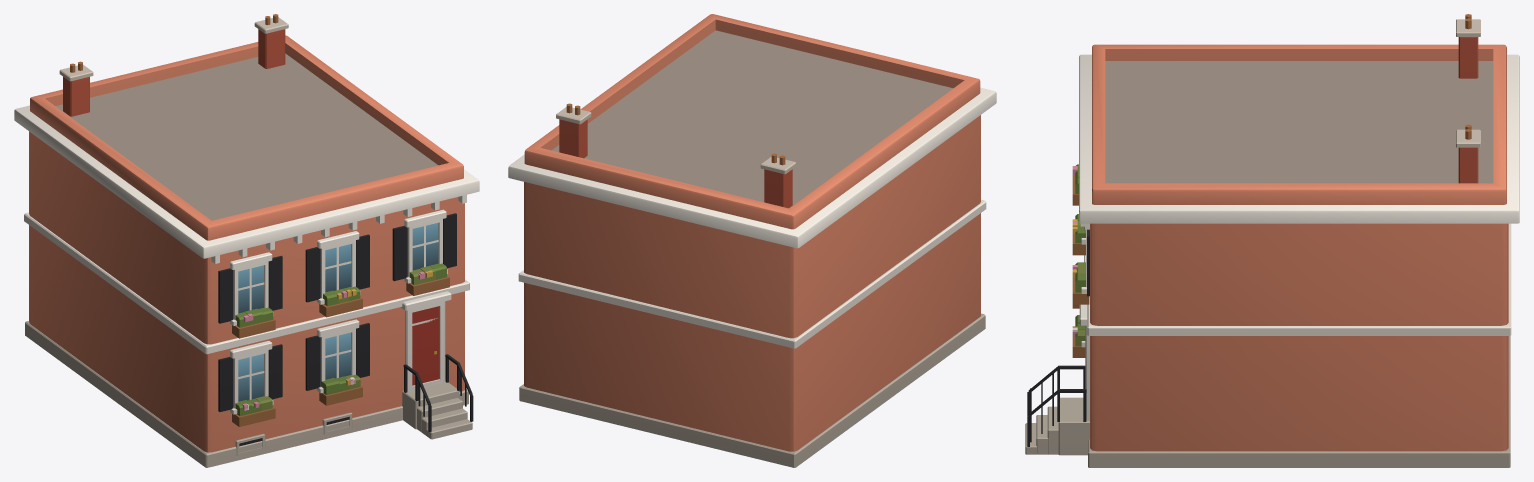
File: beacon_n10.glb
3 renders of one model, left to right at view 1: azimuth 30°, elevation 25°; view 2: azimuth 150°, elevation 25°; view 3: azimuth 270°, elevation 25°, orthographic. The views are drawn at different scales.
Parts seen in each view (by area): view 1: beacon_n10; view 2: beacon_n10; view 3: beacon_n10.
Part boxes in pixels (box(x1,y1,x2,y2)): beacon_n10: box(14, 14, 479, 467); beacon_n10: box(508, 14, 996, 467); beacon_n10: box(1025, 14, 1519, 467).
Size of the model in its own units: 10.64 by 10.14 by 14.18.
1 material, 1 textured.
